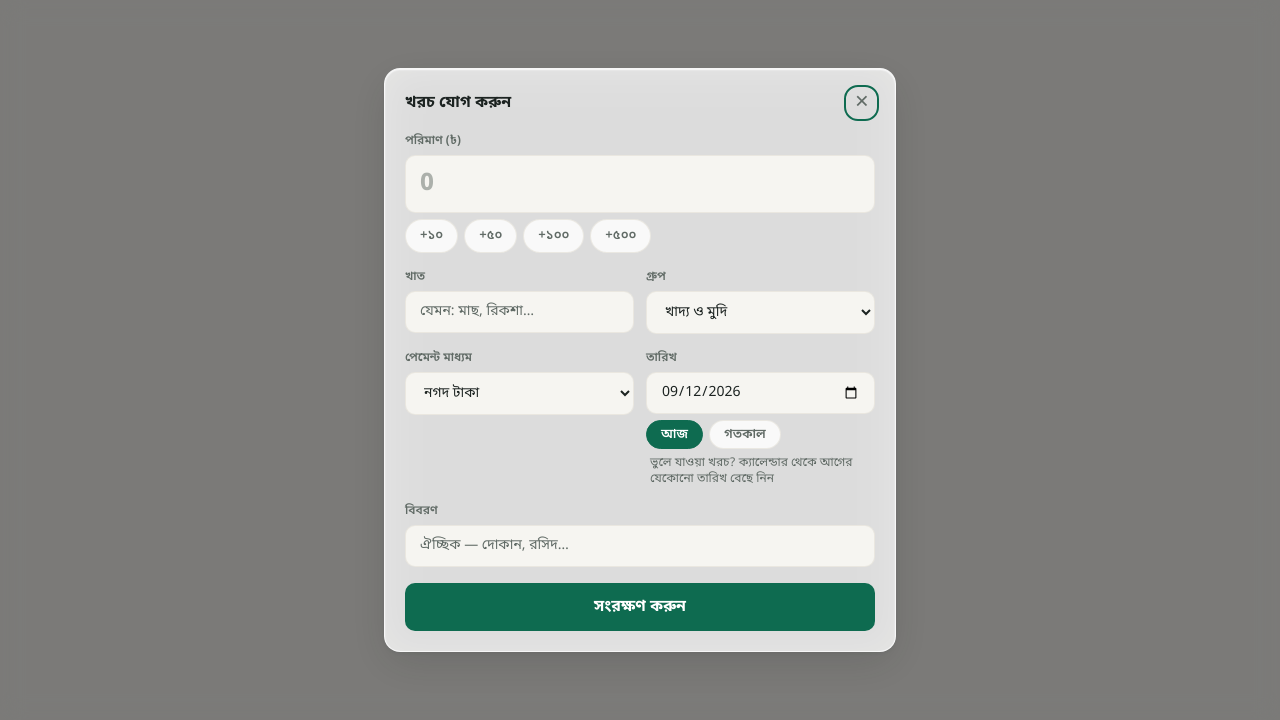
ExpenseForm khata picker combobox (T20.4) › typing filters the fetched khatas and shows matching suggestions
The image size is (1280, 720).
In the dropdown labelled "খাত": (520, 312) x1=405 y1=290 x2=634 y2=332, type "চা"
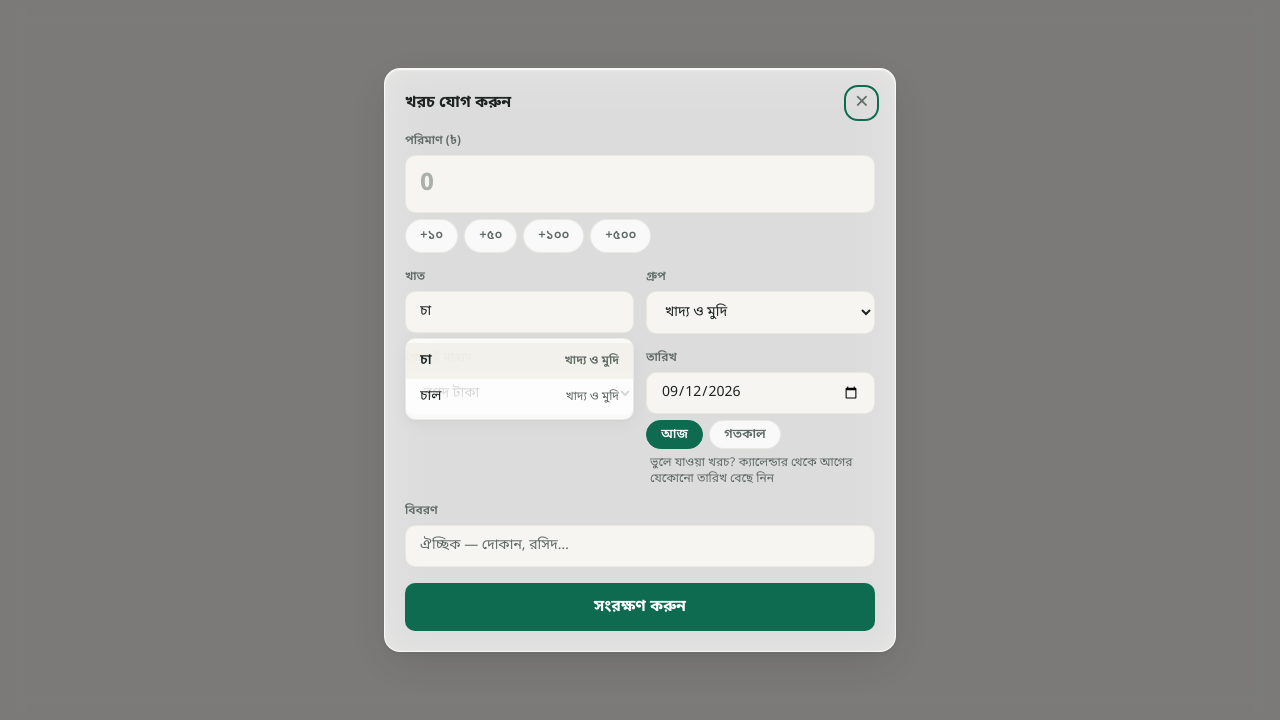
Expected: the option "মাছ" is not shown
Result: the dropdown labelled "খাত" is expanded at x1=405 y1=290 x2=634 y2=332
Result: the options read "চা খাদ্য ও মুদি", "চাল খাদ্য ও মুদি", in this order at x1=406 y1=342 x2=633 y2=378; x1=420 y1=386 x2=619 y2=406
